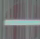No entry: (2, 0, 38, 38)
